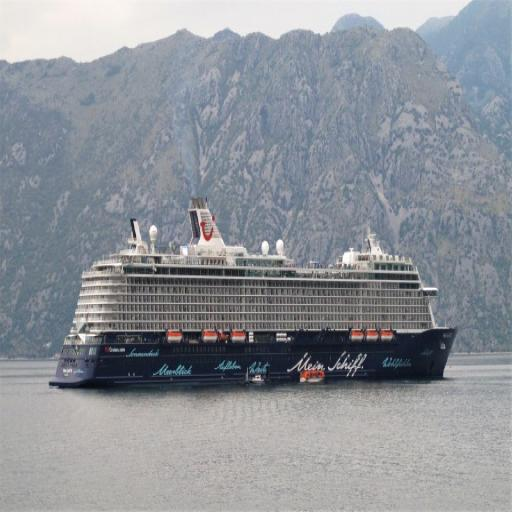cruises: (46, 190, 464, 390)
